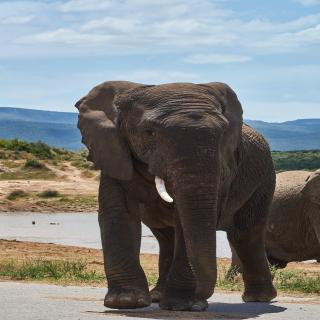Elephant: (67, 73, 298, 309)
